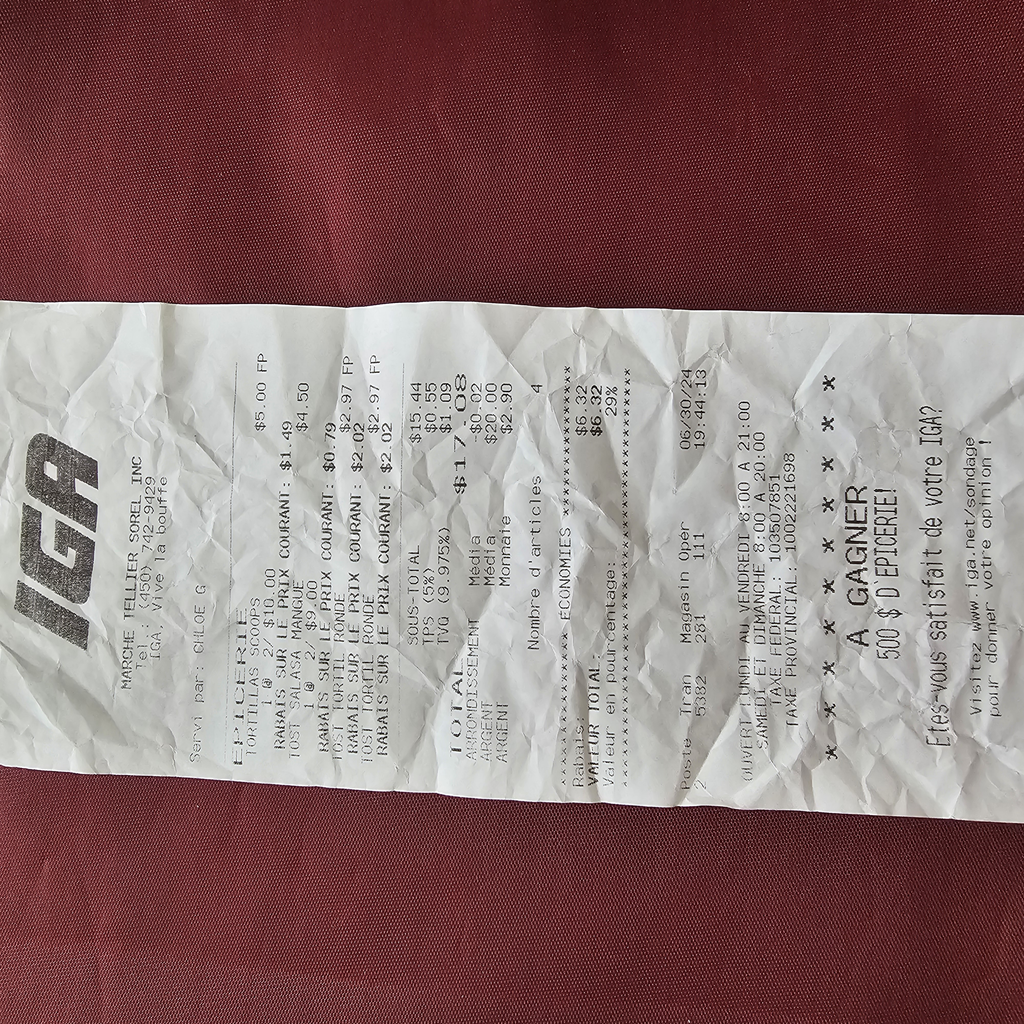recipt: (0, 290, 1024, 827)
